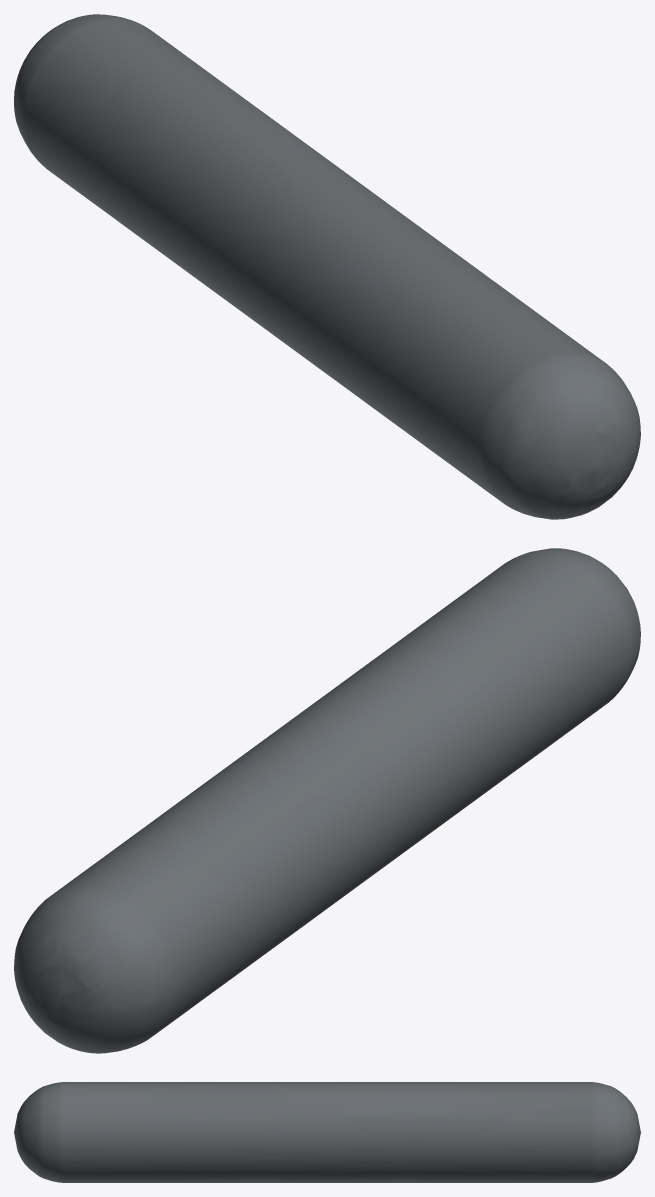
File: analq184.glb
3 views of the same model, one above another, from view 1: azimuth 30°, elevation 25°; view 2: azimuth 150°, elevation 25°; view 3: azimuth 270°, elevation 25° (orthographic). The views are drawn at different scales.
Visible parts, largest first — view 1: airframe; view 2: airframe; view 3: airframe.
Part boxes in pixels (left/top/right/bottom): airframe: left=14, top=14, right=640, bottom=519; airframe: left=14, top=548, right=640, bottom=1053; airframe: left=14, top=1082, right=640, bottom=1182.
Size of the model in its own units: 0.4738 by 0.4738 by 2.94.
Materials: 1 (1 with a texture image).
